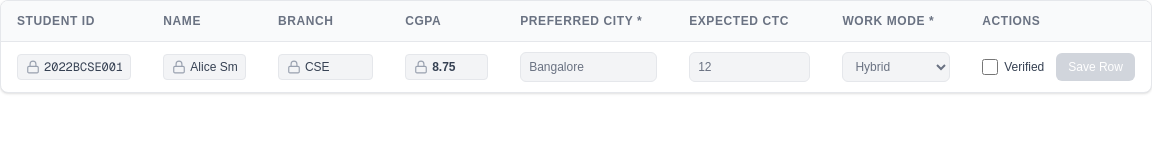
SpreadsheetGrid Component › the Verified checkbox is visible when canVerify=true
The image size is (1152, 160).
Toggle verified
Click the checkbox labelled "Verified" at (990, 67), box [982,59,998,75]
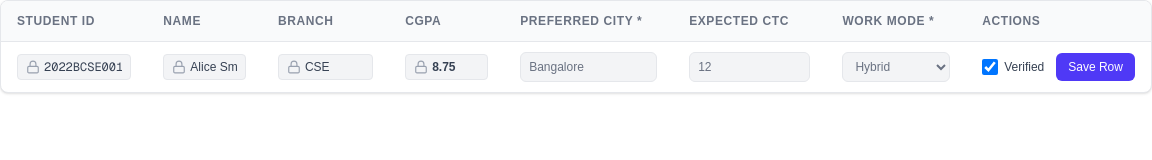
expect the checkbox labelled "Verified" is checked: met, box [982,59,998,75]
expect the button "Save Row" is enabled: met, box [1056,53,1135,81]
